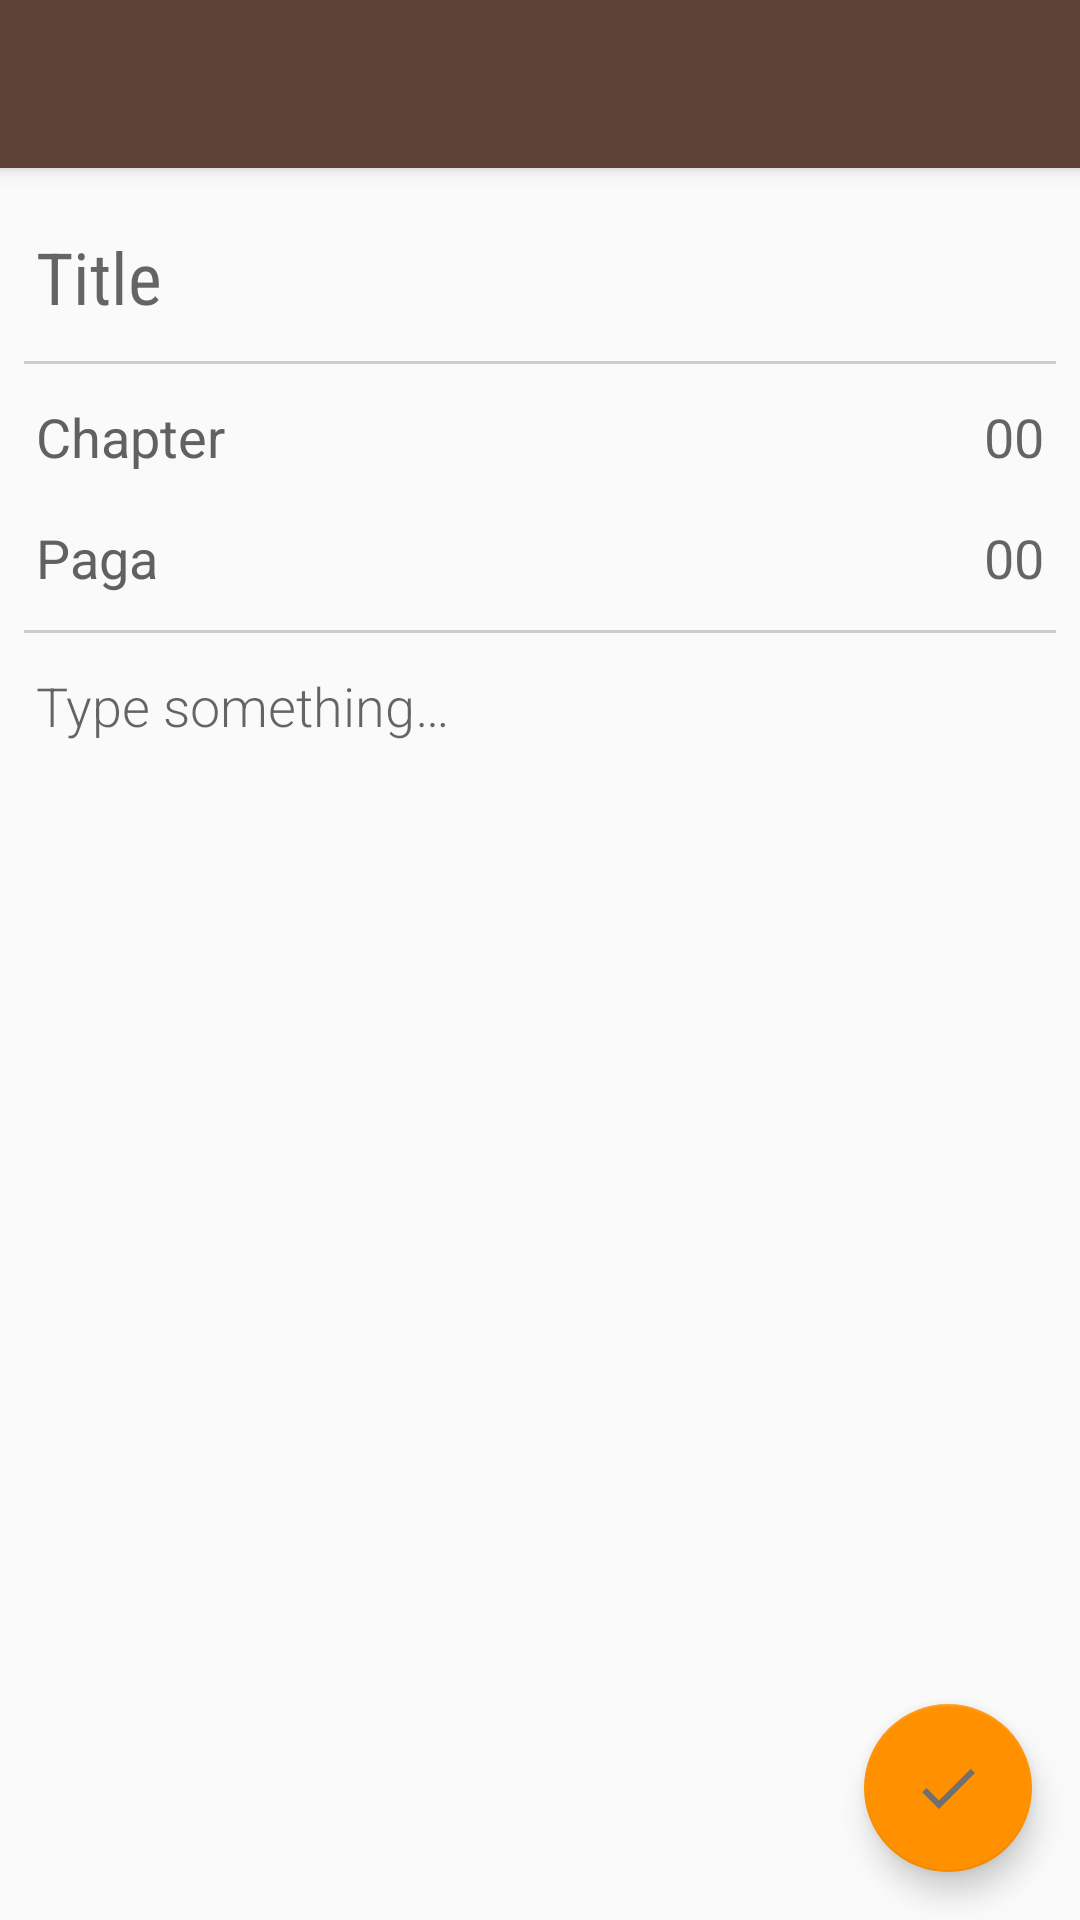

Named icons in this screenshot (1080px×1920px) and their bounding boxes, (x1, y1, x2, y2):
check: (864, 1704, 1032, 1872)
